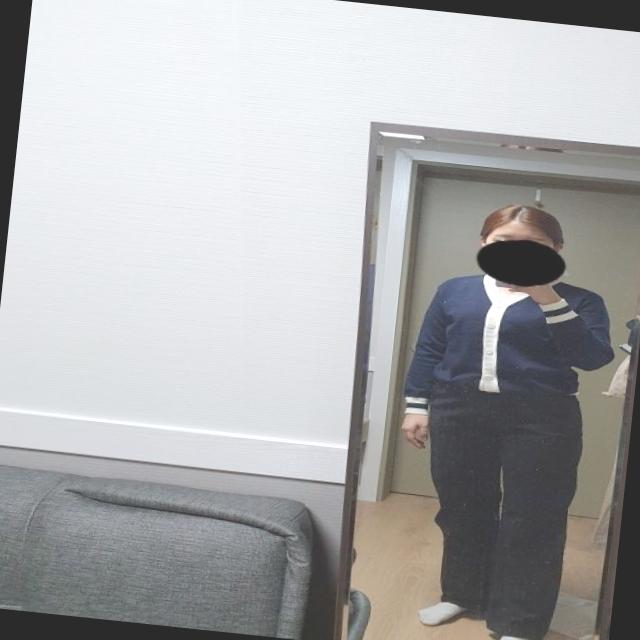cardigan: (399, 264, 620, 430)
slacks: (402, 377, 589, 640)
